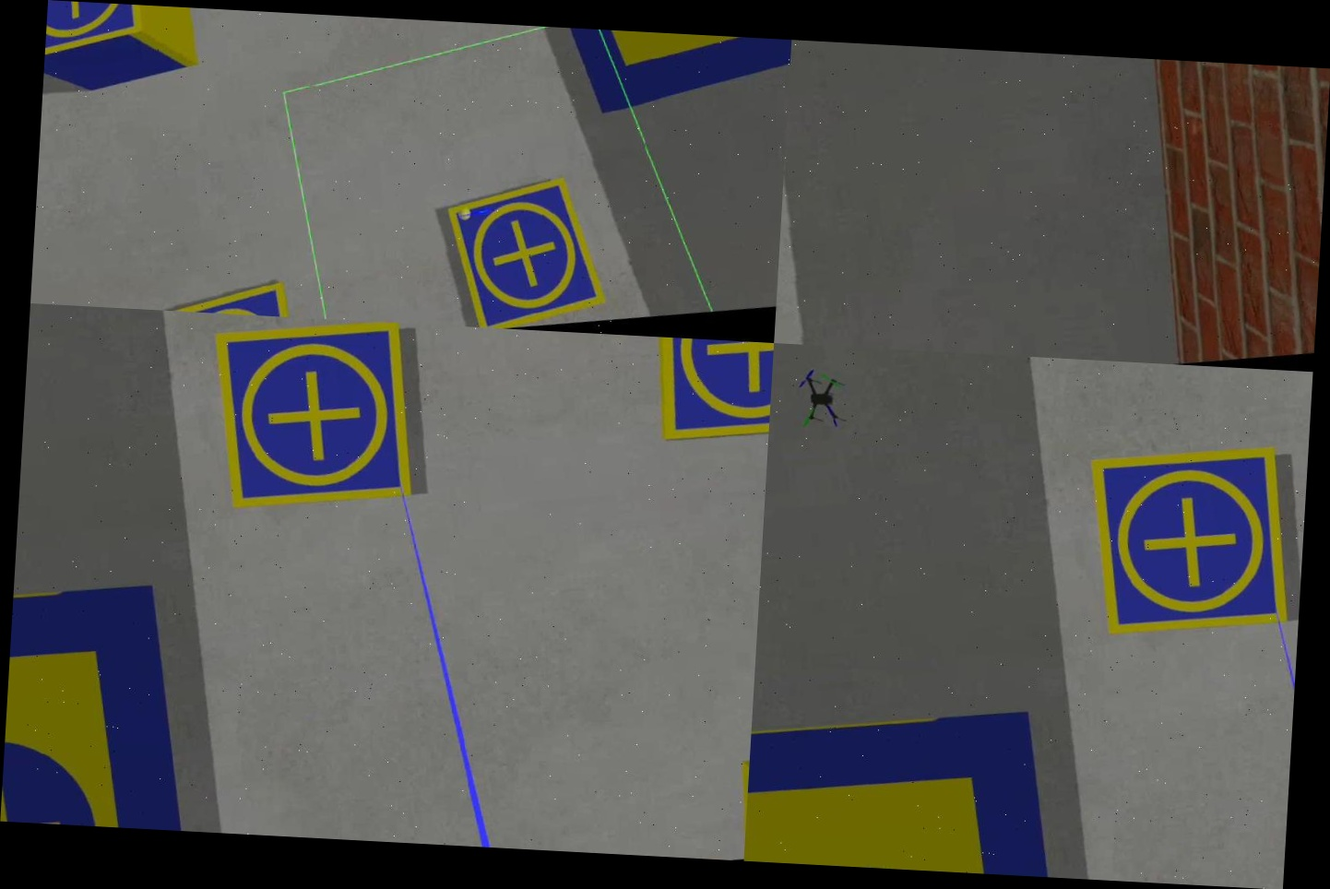large_base: (743, 695, 1081, 878), (0, 576, 205, 831), (480, 23, 791, 128)
small_base: (1078, 430, 1306, 654), (202, 314, 429, 527), (437, 167, 617, 334), (635, 336, 774, 449), (44, 0, 152, 76), (153, 271, 301, 317)
